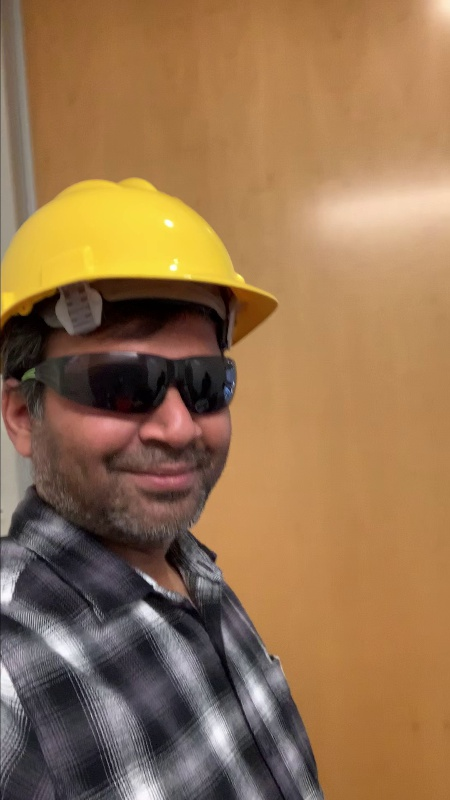glasses: (47, 346, 243, 415)
helmet: (7, 175, 245, 276)
